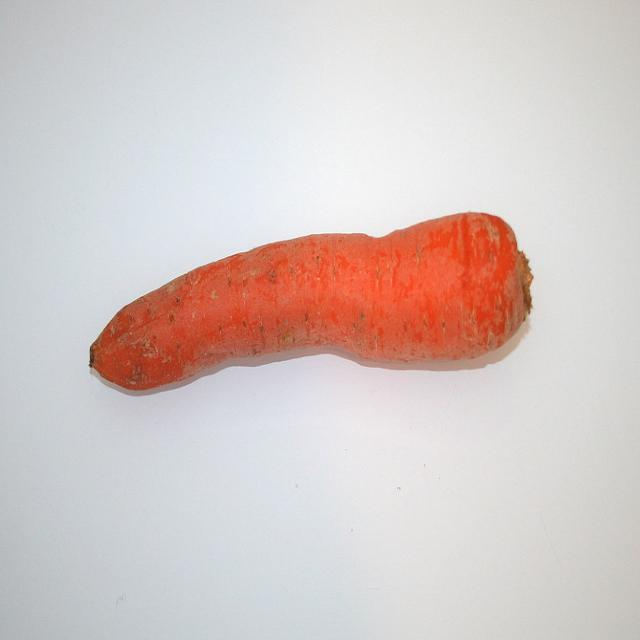Carrot: (90, 210, 542, 393)
